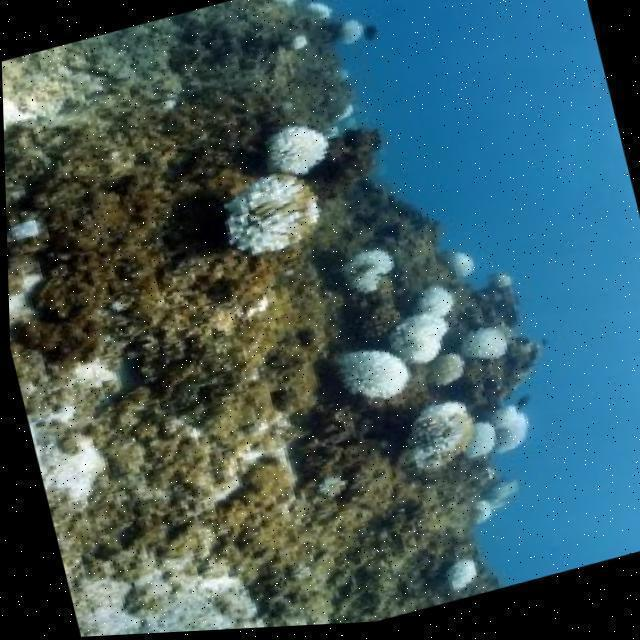Bleached Coral: (315, 273, 520, 421), (378, 382, 553, 514), (207, 164, 328, 255), (322, 229, 436, 310), (269, 0, 373, 69), (255, 110, 348, 182), (423, 550, 490, 608)
